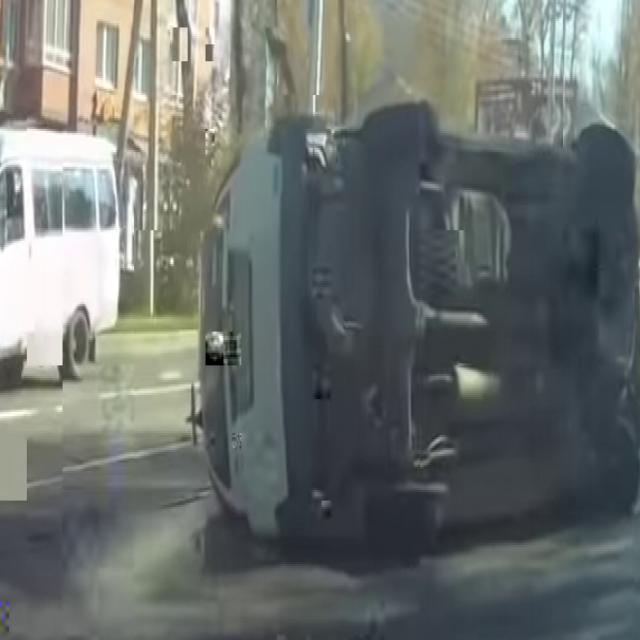accident: (177, 70, 634, 577)
